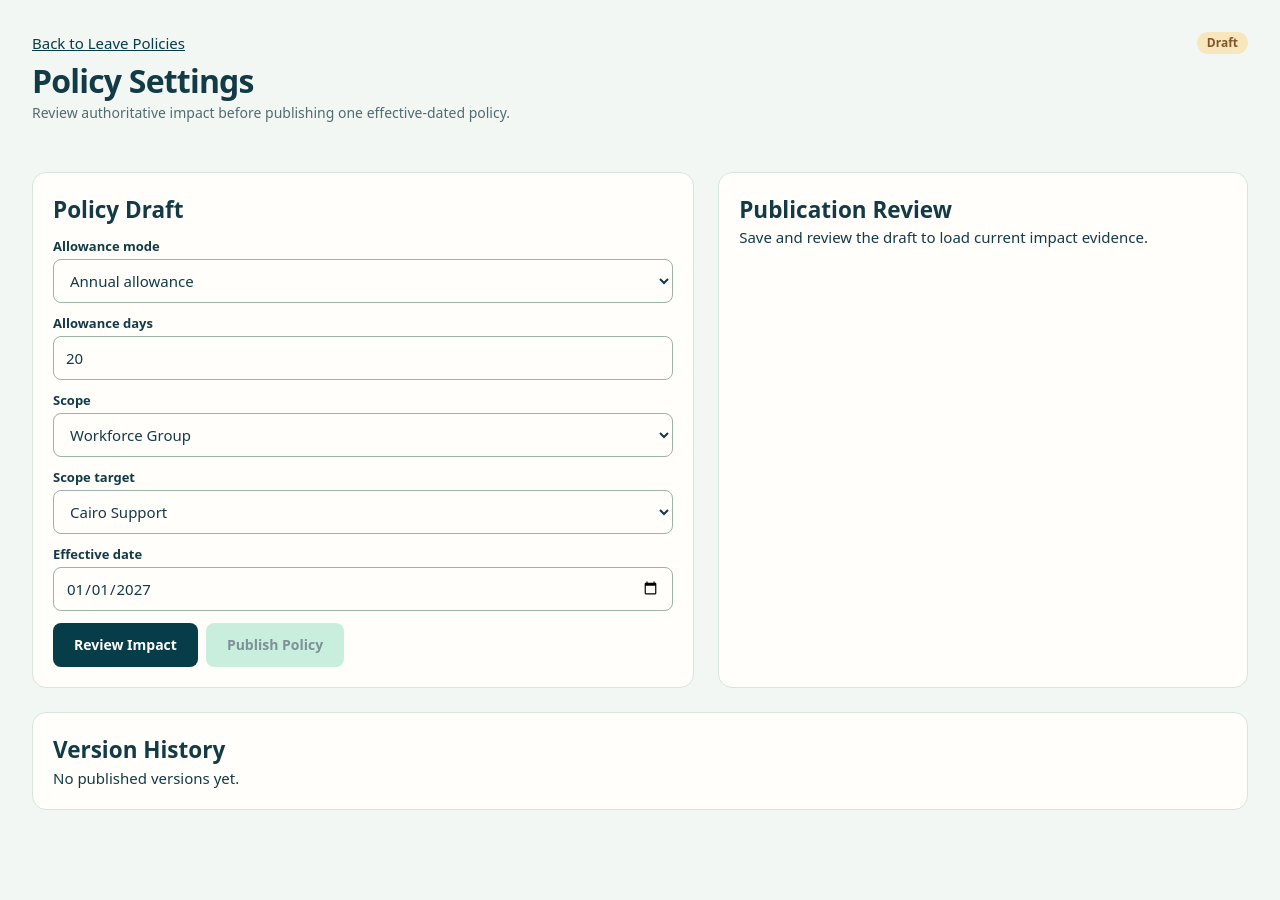
PolicySettingsPage › [P0] persists the saved revision after preview failure and recovers without stale expectedRevision
Replace the text in the number field labelled "Allowance days" with "25" at (363, 358), box [53,336,673,380]
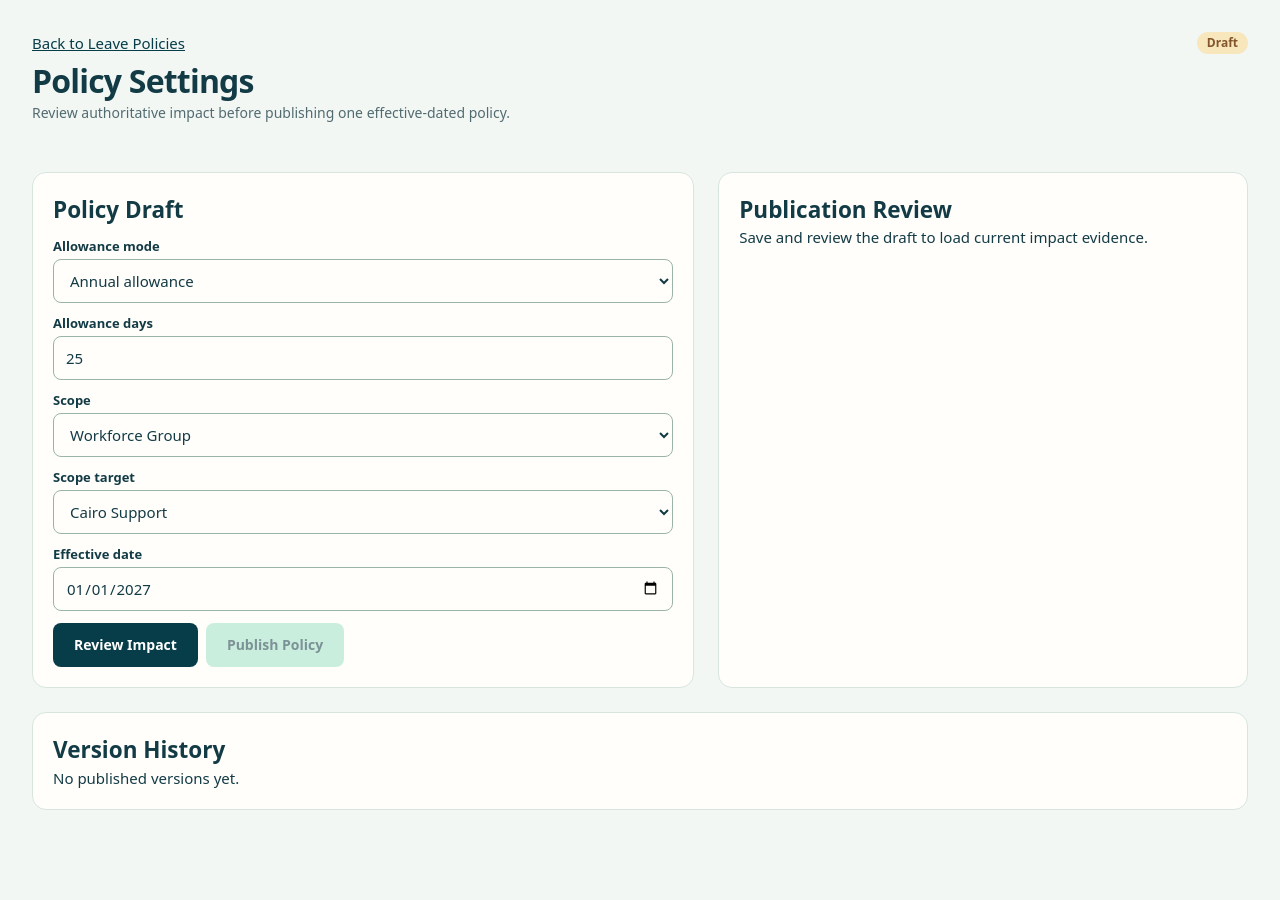
Click the button "Review Impact" at (125, 645), box [53,623,198,667]
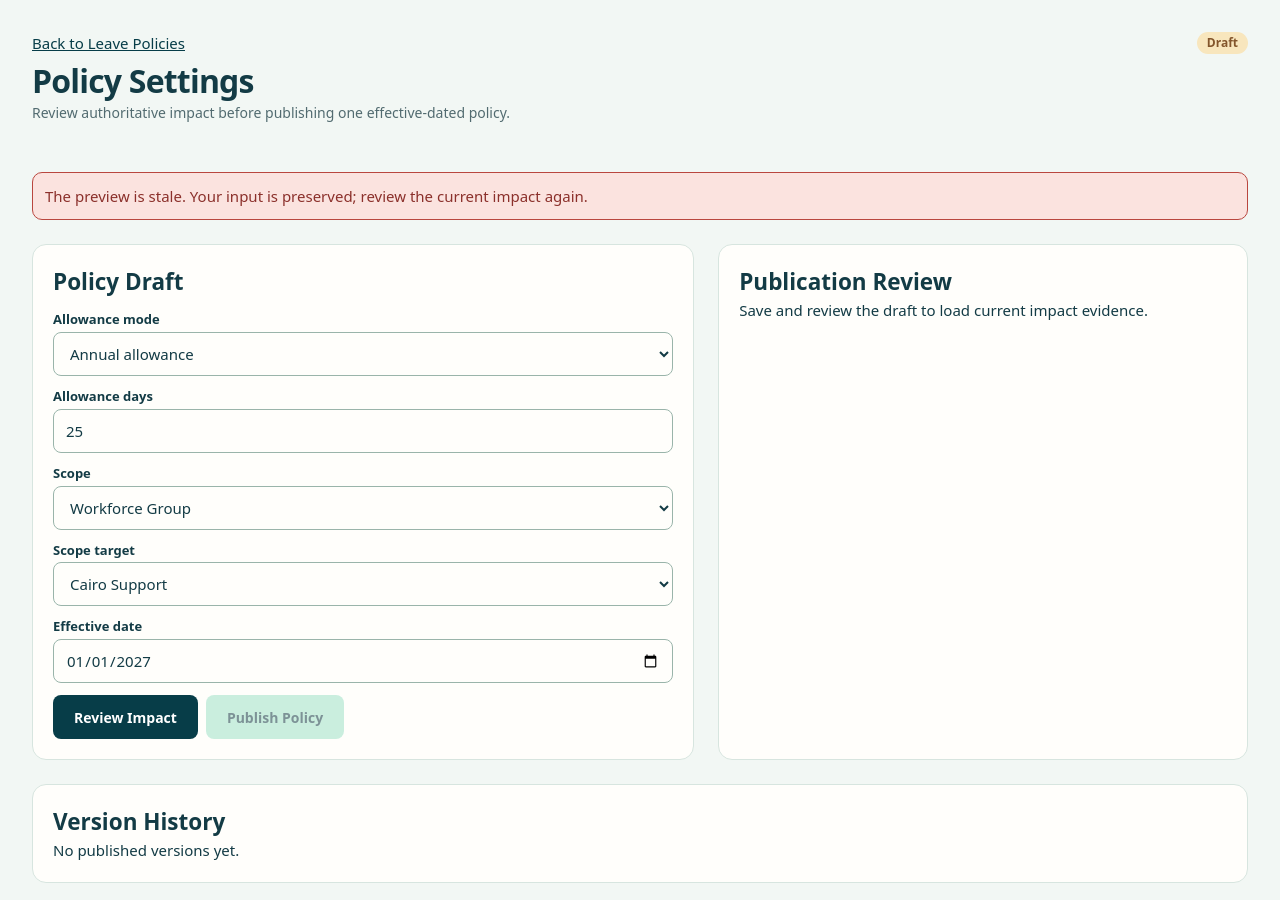
Result: the message shows "preview is stale" at [45,186,588,206]
Replace the text in the number field labelled "Allowance days" with "26" at (363, 431), box [53,409,673,453]
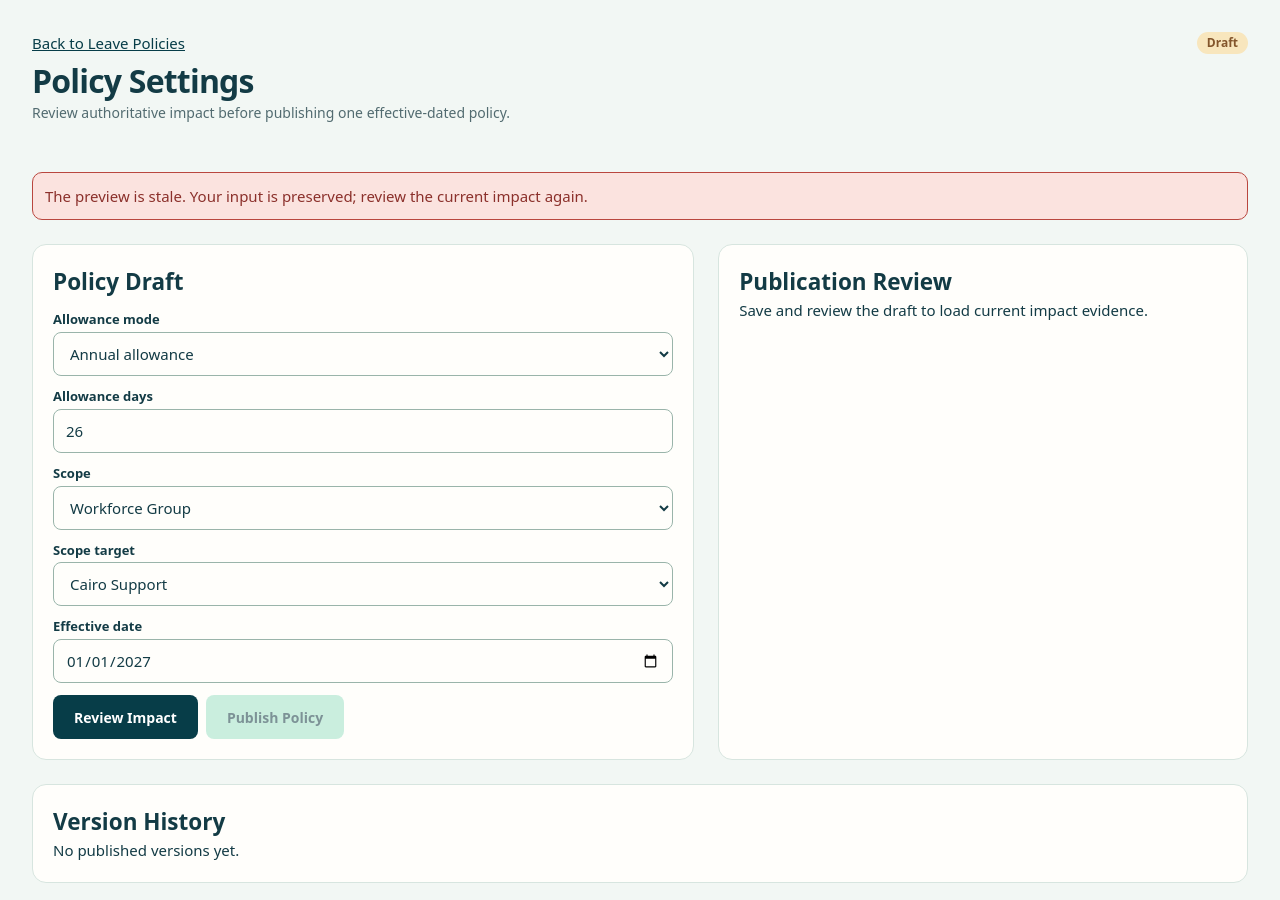
Click the button "Review Impact" at (125, 717), box [53,695,198,739]
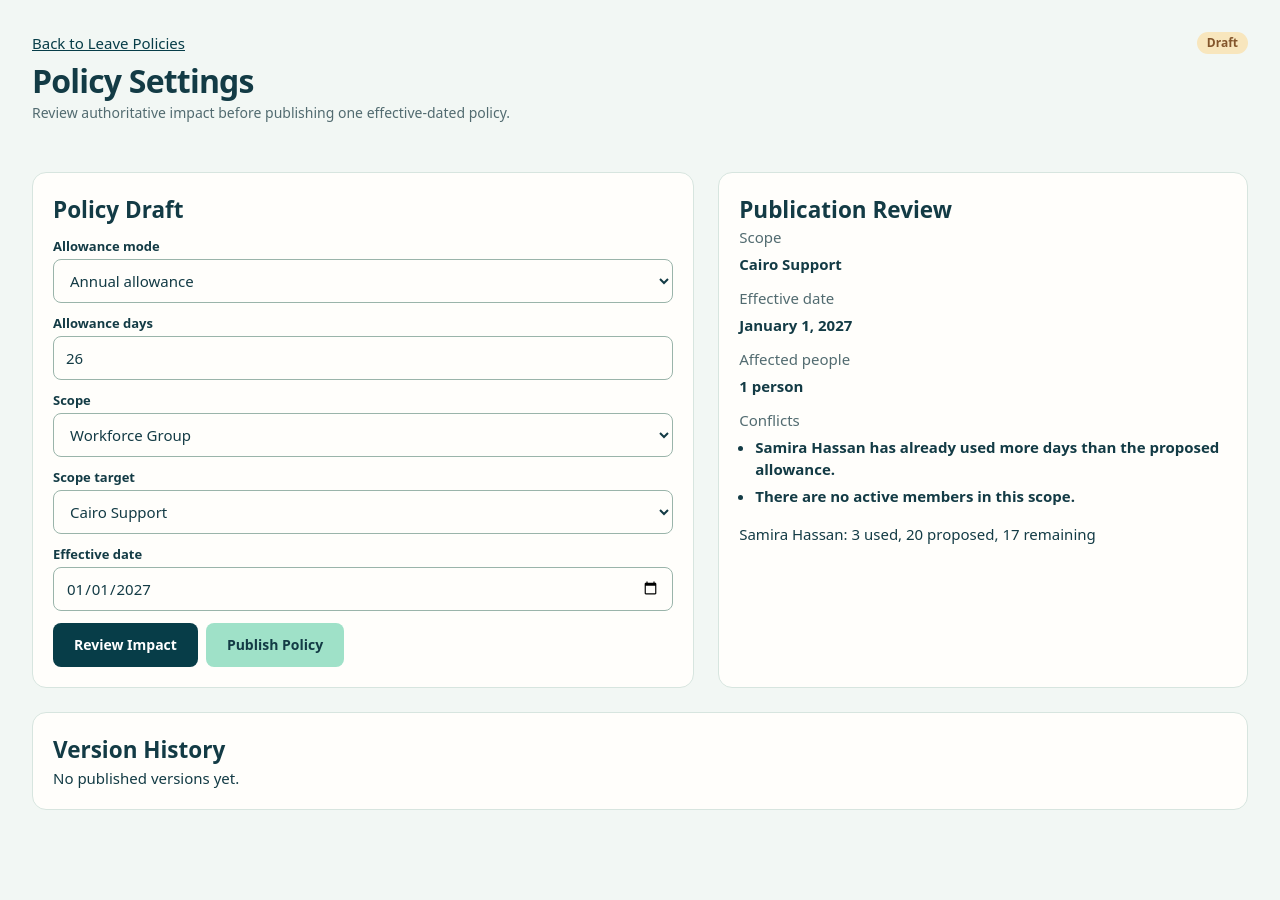
Result: the list item "Samira Hassan has already used more days" is shown at [755,437,1219,479]
